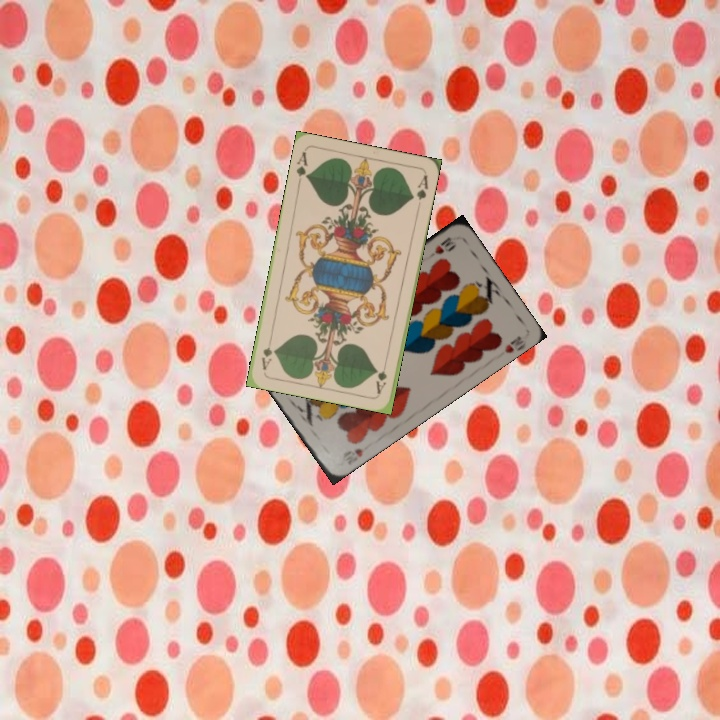GA: (292, 148, 311, 188), (372, 356, 390, 396)
H10: (431, 233, 458, 257), (338, 444, 365, 467)
